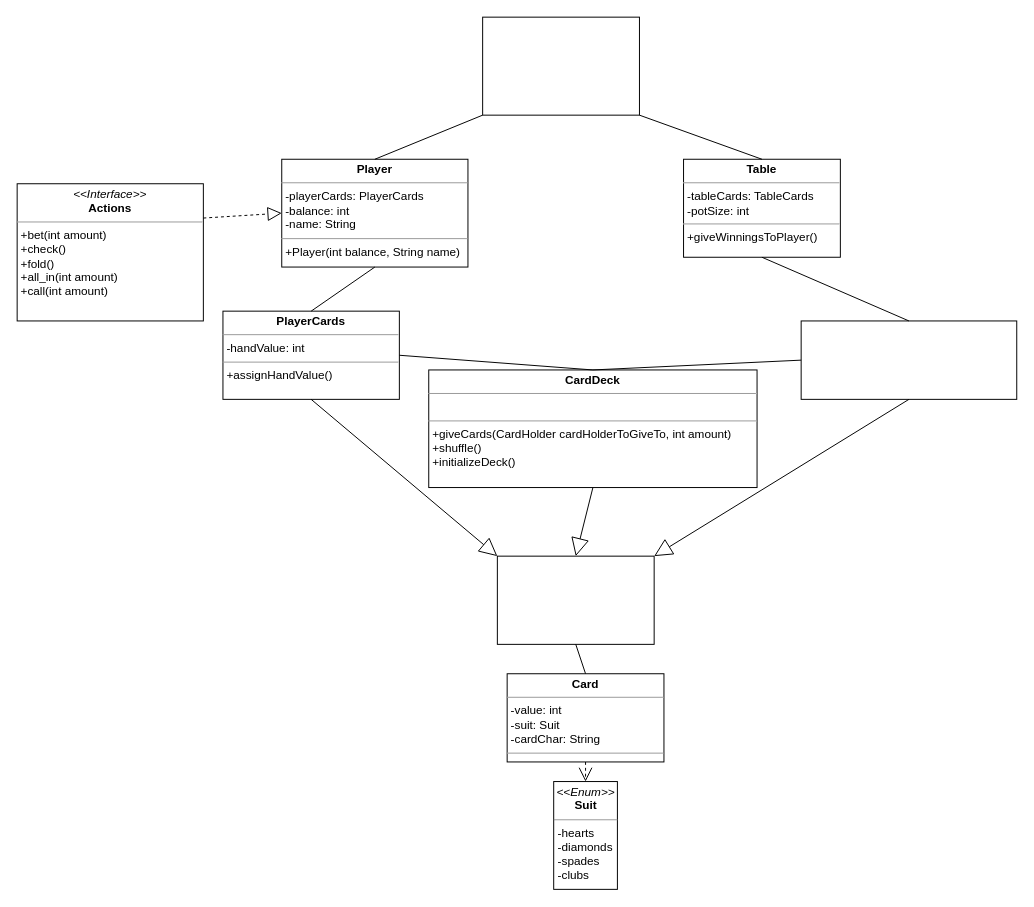
This 1034x907 diagram has some shape labels left out. The shapes that lost their labels are listed below. From the top down, each one's box as (x1, y1, x2, y2) in pixels, then its label:
(482, 16, 639, 115): Game -players: Player[] -table: Table +chooseAmountOfPlayers()
(800, 320, 1017, 399): TableCards +combineTableCardsWithPlayerCards()
(496, 555, 654, 644): abstract CardHolder -maxSize: int -cards: ArrayList<Card> + CardHolder(int size)
